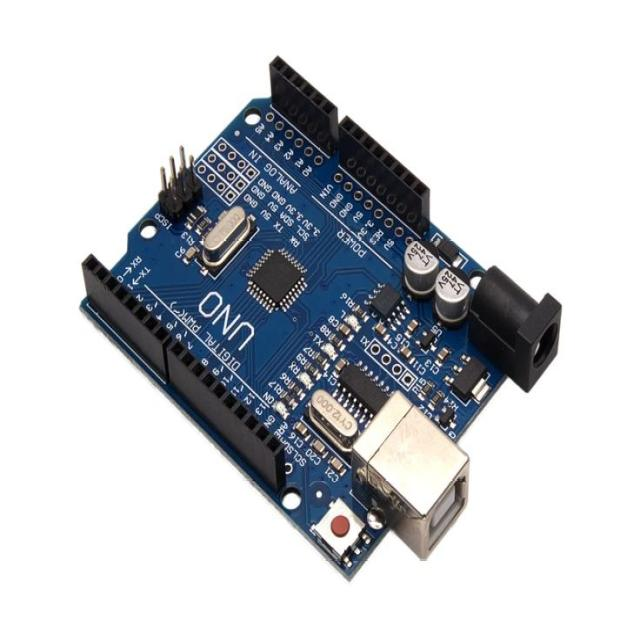Arduino: (21, 35, 609, 640)
